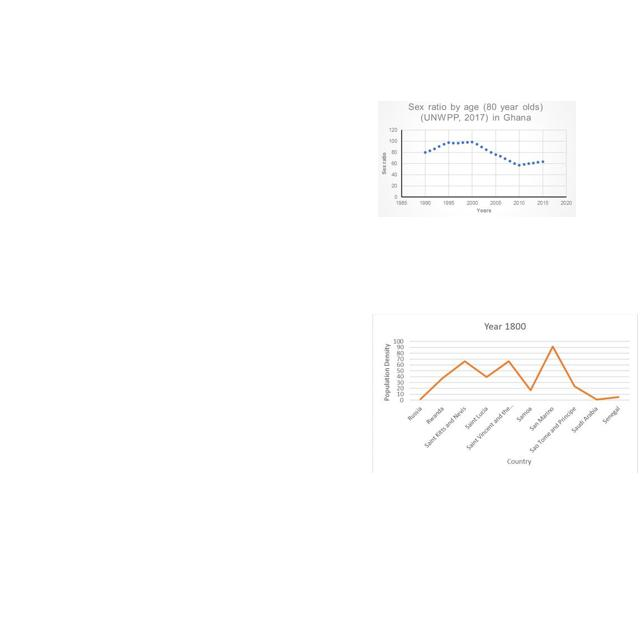Graph: (372, 314, 638, 473), (378, 101, 576, 217)
